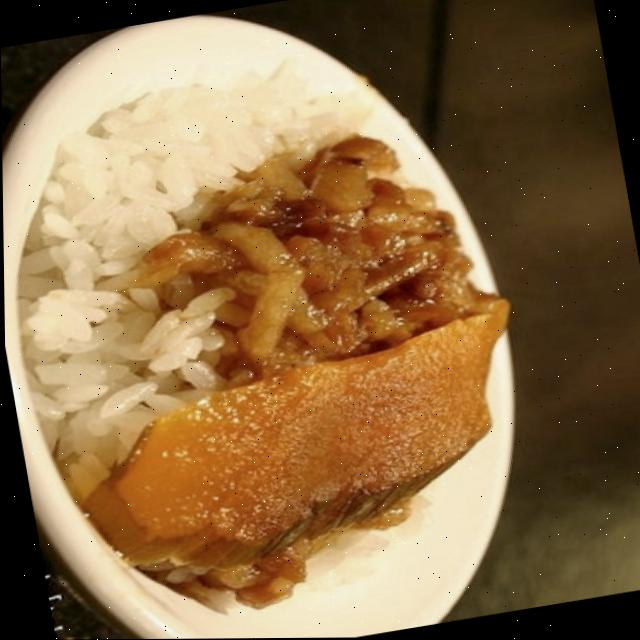猪肉菜式: (0, 16, 588, 640)
